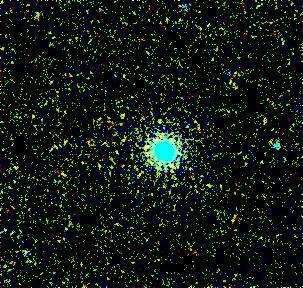star: (131, 132, 161, 162)
